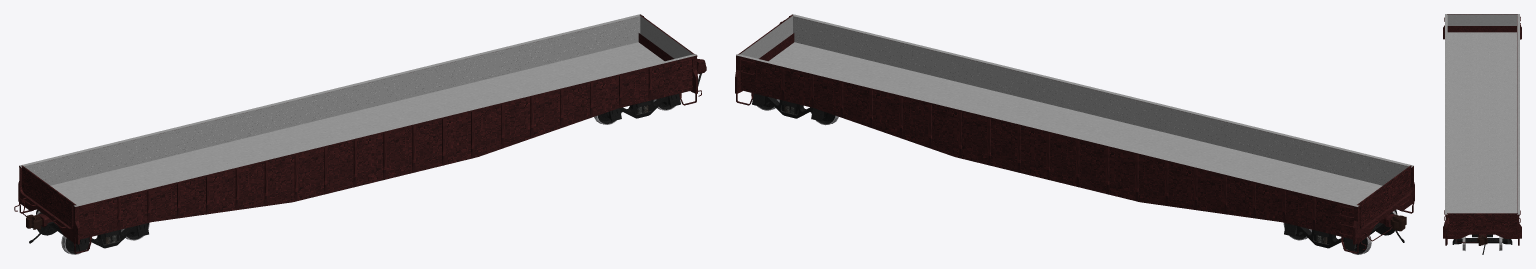
Rendered from dw_gondola.obj.
3 views of the same model, side by side, from view 1: azimuth 30°, elevation 25°; view 2: azimuth 150°, elevation 25°; view 3: azimuth 270°, elevation 25° (orthographic). The views are drawn at different scales.
Parts seen in each view (by area): view 1: FRAME_MAIN, SHELL.001_BOX11, SHELL_BOX13, BOX12, BOGEY_FRONT_BOGIE1.001, BOGEY_REAR_BOGIE1, BOGEY_FRONT_WHEEL_1_WHEELS22.006; view 2: FRAME_MAIN, SHELL.001_BOX11, SHELL_BOX13, BOX12, BOGEY_REAR_BOGIE1, BOGEY_FRONT_BOGIE1.001, BOGEY_FRONT_WHEEL_1_WHEELS22.006; view 3: FRAME_MAIN, SHELL_BOX13, BOX12, BOGEY_REAR_WHEEL_1_WHEELS22.004, BOX09, BOGEY_REAR_BOGIE1, BACK_COUPLER.000_Cube.007.
Boxes of the visible parts, x1=… form: FRAME_MAIN: x1=19, y1=14, x2=697, y2=239; SHELL.001_BOX11: x1=117, y1=68, x2=651, y2=229; SHELL_BOX13: x1=21, y1=14, x2=694, y2=227; BOX12: x1=18, y1=33, x2=697, y2=244; BOGEY_FRONT_BOGIE1.001: x1=36, y1=210, x2=148, y2=251; BOGEY_REAR_BOGIE1: x1=604, y1=94, x2=680, y2=121; BOGEY_FRONT_WHEEL_1_WHEELS22.006: x1=36, y1=211, x2=89, y2=254; FRAME_MAIN: x1=736, y1=14, x2=1413, y2=239; SHELL.001_BOX11: x1=781, y1=68, x2=1315, y2=229; SHELL_BOX13: x1=738, y1=14, x2=1411, y2=227; BOX12: x1=735, y1=33, x2=1414, y2=244; BOGEY_REAR_BOGIE1: x1=752, y1=93, x2=828, y2=121; BOGEY_FRONT_BOGIE1.001: x1=1284, y1=209, x2=1397, y2=251; BOGEY_FRONT_WHEEL_1_WHEELS22.006: x1=1343, y1=211, x2=1396, y2=254; FRAME_MAIN: x1=1445, y1=14, x2=1519, y2=215; SHELL_BOX13: x1=1447, y1=14, x2=1517, y2=230; BOX12: x1=1443, y1=25, x2=1521, y2=238; BOGEY_REAR_WHEEL_1_WHEELS22.004: x1=1461, y1=236, x2=1503, y2=250; BOX09: x1=1447, y1=215, x2=1517, y2=231; BOGEY_REAR_BOGIE1: x1=1452, y1=238, x2=1512, y2=244; BACK_COUPLER.000_Cube.007: x1=1477, y1=235, x2=1487, y2=245.
Bounding box in the file's own units: 20.63 × 1.86 × 3.23.
Materials: 7 (7 with a texture image).
